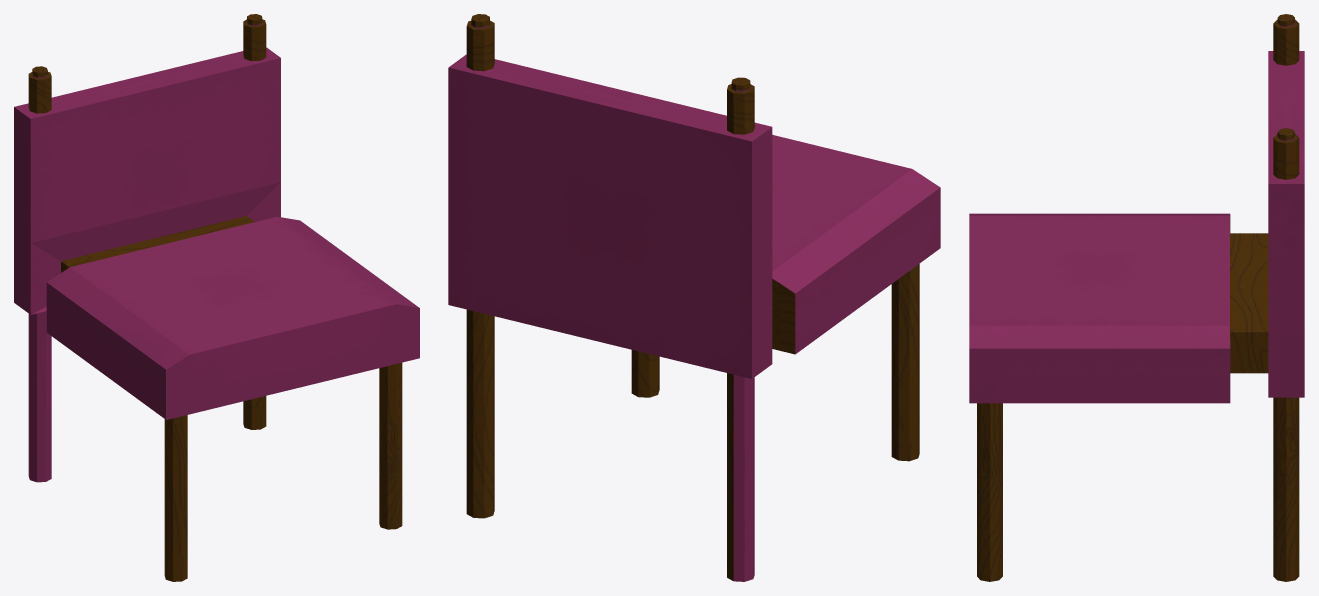
The model's file is Chair.fbx.
The picture shows the model from 3 angles, left to right: view 1: azimuth 30°, elevation 25°; view 2: azimuth 150°, elevation 25°; view 3: azimuth 270°, elevation 25°; orthographic projection. The views are drawn at different scales.
Visible parts, largest first — view 1: Chair; view 2: Chair; view 3: Chair.
Part boxes in pixels (left/top/right/bottom): Chair: left=14, top=14, right=419, bottom=581; Chair: left=448, top=14, right=940, bottom=581; Chair: left=969, top=14, right=1304, bottom=581.
Size of the model in its own units: 44.1 by 67.81 by 46.37.
